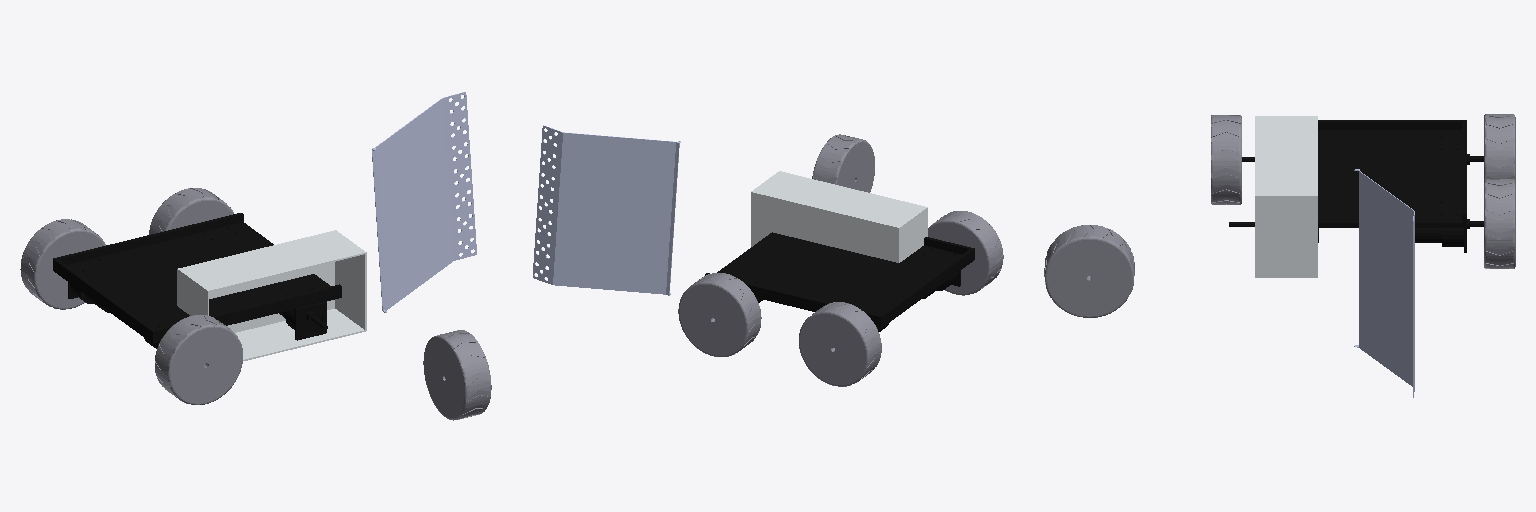
The robot description file, URDF, robot "swcr":
<?xml version="1.0" encoding="utf-8"?>
<robot
  name="swcr">
  <link name="base_link">
    <visual>
      <origin
        xyz="0 0 0"
        rpy="0 0 0" />
      <geometry>
        <mesh
          filename="package://swcr/meshes/base_link.dae" />
      </geometry>
      <material
        name="">
        <color
          rgba="0.101960784313725 0.101960784313725 0.101960784313725 1" />
      </material>
    </visual>
    <collision>
      <origin
        xyz="0 0 0"
        rpy="0 0 0" />
      <geometry>
        <mesh
          filename="package://swcr/meshes/base_link.dae" />
      </geometry>
    </collision>
  </link>
  <link name="Bin_Link">
    <visual>
      <origin
      xyz="0.045 -0.00500000000000001 0.0525"
      rpy="3.14159265358979 0 -1.5707963267949" />
      <geometry>
        <mesh
          filename="package://swcr/meshes/Bin_Link.dae" />
      </geometry>
      <material
        name="">
        <color
          rgba="0.898039215686275 0.917647058823529 0.929411764705882 1" />
      </material>
    </visual>
    <collision>
      <origin
      xyz="0.045 -0.00500000000000001 0.0525"
      rpy="3.14159265358979 0 -1.5707963267949" />
      <geometry>
        <mesh
          filename="package://swcr/meshes/Bin_Link.dae" />
      </geometry>
    </collision>
  </link>
  <joint
    name="Bin_joint"
    type="fixed">
    <origin
      xyz="0.045 -0.00500000000000001 0.0525"
      rpy="3.14159265358979 0 -1.5707963267949" />
    <parent
      link="base_link" />
    <child
      link="Bin_Link" />
    <axis
      xyz="0 0 0" />
  </joint>
  <link name="Pan_Link">
    <visual>
      <origin
      xyz="0.11821106537886 0 0.0043695506838019"
      rpy="1.5707963267949 -0.0688308576600601 0" />
      <geometry>
        <mesh
          filename="package://swcr/meshes/Pan_Link.dae" />
      </geometry>
      <material
        name="">
        <color
          rgba="0.792156862745098 0.819607843137255 0.933333333333333 1" />
      </material>
    </visual>
    <collision>
      <origin
      xyz="0.11821106537886 0 0.0043695506838019"
      rpy="1.5707963267949 -0.0688308576600601 0" />
      <geometry>
        <mesh
          filename="package://swcr/meshes/Pan_Link.dae" />
      </geometry>
    </collision>
  </link>
  <joint
    name="Pan_joint"
    type="revolute">
    <axis xyz="1 0 0" />
    <limit effort="1000.0" lower="0.0" upper="0.548" velocity="0.5"/>
    <origin
      rpy="1.5707963267949 -0.0688308576600601 0" xyz="0.11821106537886 0 0.0043695506838019"/>
    <parent link="base_link" />
    <child link="Pan_Link" />
  </joint>
  <link
    name="Wheel1L_Link">
    <visual>
      <origin
      xyz="0.085 -0.1513 -0.0175650643543415" />
      <geometry>
        <mesh
          filename="package://swcr/meshes/Wheel1L_Link.dae" />
      </geometry>
      <material
        name="">
        <color
          rgba="0.588235294117647 0.588235294117647 0.631372549019608 1" />
      </material>
    </visual>
    <collision>
     <origin
      xyz="0.085 -0.1513 -0.0175650643543415" />
      <geometry>
        <mesh
          filename="package://swcr/meshes/Wheel1L_Link.dae" />
      </geometry>
    </collision>
  </link>
  <joint
    name="Wheel1L_joint"
    type="continuous">
    <parent
      link="base_link" />
    <child
      link="Wheel1L_Link" />
    <axis
      xyz="0 1 0" />
    <origin
      xyz="0.085 -0.1513 -0.0175650643543415" />    
  </joint>
  <link
    name="Wheel2L_Link">
    <visual>
      <origin
        xyz="0 0 0"
        rpy="0 0 0" />
      <geometry>
        <mesh
          filename="package://swcr/meshes/Wheel2L_Link.dae" />
      </geometry>
      <material
        name="">
        <color
          rgba="0.588235294117647 0.588235294117647 0.631372549019608 1" />
      </material>
    </visual>
    <collision>
      <origin
        xyz="0 0 0"
        rpy="0 0 0" />
      <geometry>
        <mesh
          filename="package://swcr/meshes/Wheel2L_Link.dae" />
      </geometry>
    </collision>
  </link>
  <joint
    name="Wheel2L_joint"
    type="fixed">
    <origin
      xyz="-0.085 -0.1513 -0.0175650643543415"
      rpy="1.86455912828869 0 1.5707963267949" />
    <parent
      link="base_link" />
    <child
      link="Wheel2L_Link" />
    <axis
      xyz="0 0 0" />
  </joint>
  <link
    name="Wheel1R_Link">
    <visual>
      <origin
        xyz="0 0 0"
        rpy="0 0 0" />
      <geometry>
        <mesh
          filename="package://swcr/meshes/Wheel1R_Link.dae" />
      </geometry>
      <material
        name="">
        <color
          rgba="0.588235294117647 0.588235294117647 0.631372549019608 1" />
      </material>
    </visual>
    <collision>
      <origin
        xyz="0 0 0"
        rpy="0 0 0" />
      <geometry>
        <mesh
          filename="package://swcr/meshes/Wheel1R_Link.dae" />
      </geometry>
    </collision>
  </link>
  <joint
    name="Wheel1R_joint"
    type="fixed">
    <origin
      xyz="0.0823186569435573 0.1513 -0.0180989682049121"
      rpy="-1.5707963267949 0 -1.5707963267949" />
    <parent
      link="base_link" />
    <child
      link="Wheel1R_Link" />
    <axis
      xyz="0 0 0" />
  </joint>
  <link
    name="Wheel2R_Link">
    <visual>
      <origin
        xyz="0 0 0"
        rpy="0 0 0" />
      <geometry>
        <mesh
          filename="package://swcr/meshes/Wheel2R_Link.dae" />
      </geometry>
      <material
        name="">
        <color
          rgba="0.588235294117647 0.588235294117647 0.631372549019608 1" />
      </material>
    </visual>
    <collision>
      <origin
        xyz="0 0 0"
        rpy="0 0 0" />
      <geometry>
        <mesh
          filename="package://swcr/meshes/Wheel2R_Link.dae" />
      </geometry>
    </collision>
  </link>
  <joint
    name="Wheel2R_joint"
    type="fixed">
    <origin
      xyz="-0.087681 0.1513 -0.018099"
      rpy="2.7665 0 -1.5708" />
    <parent
      link="base_link" />
    <child
      link="Wheel2R_Link" />
    <axis
      xyz="0 0 0" />
  </joint>
</robot>

--- What the picture shows (computed from the rendered views, not written in the file) ---
Views: 3 orthographic renders of the robot side by side, from view 1: azimuth 30°, elevation 25°; view 2: azimuth 150°, elevation 25°; view 3: azimuth 270°, elevation 25°.
Robot: swcr — 7 links, 6 joints (1 revolute, 1 continuous, 4 fixed); root link base_link; default pose: all joints at 0.
Links seen in each view (by area): view 1: base_link, Pan_Link, Bin_Link, Wheel2L_Link, Wheel1L_Link, Wheel2R_Link, Wheel1R_Link; view 2: Pan_Link, base_link, Bin_Link, Wheel2R_Link, Wheel1R_Link, Wheel2L_Link, Wheel1L_Link; view 3: base_link, Bin_Link, Pan_Link, Wheel1L_Link, Wheel1R_Link, Wheel2L_Link, Wheel2R_Link.
Link boxes in pixels (x1,y1,x2,y2): base_link: [53, 213, 341, 348]; Pan_Link: [372, 92, 476, 312]; Bin_Link: [177, 230, 366, 360]; Wheel2L_Link: [155, 315, 242, 404]; Wheel1L_Link: [423, 330, 491, 420]; Wheel2R_Link: [20, 219, 105, 309]; Wheel1R_Link: [149, 188, 233, 234]; Pan_Link: [533, 125, 680, 295]; base_link: [705, 232, 974, 331]; Bin_Link: [751, 171, 927, 262]; Wheel2R_Link: [799, 302, 881, 386]; Wheel1R_Link: [678, 273, 761, 356]; Wheel2L_Link: [928, 211, 1003, 295]; Wheel1L_Link: [812, 134, 874, 192]; base_link: [1229, 120, 1483, 252]; Bin_Link: [1255, 116, 1317, 277]; Pan_Link: [1354, 169, 1414, 397]; Wheel1L_Link: [1044, 225, 1134, 317]; Wheel1R_Link: [1484, 179, 1515, 268]; Wheel2L_Link: [1211, 115, 1241, 204]; Wheel2R_Link: [1484, 114, 1515, 181].
Size in the robot's own frame: 0.5402 by 0.5214 by 0.2205 metres.
7 mesh visuals loaded from 7 distinct referenced files (7 Collada DAE).